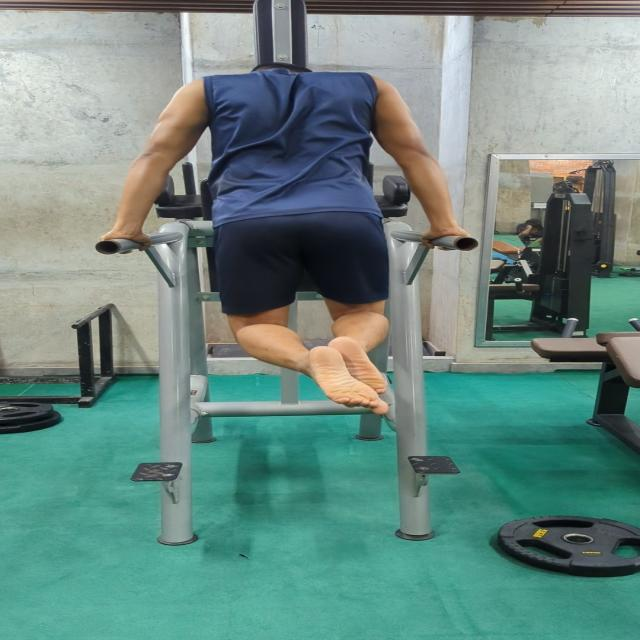Normal_Dips: (86, 55, 492, 415)
